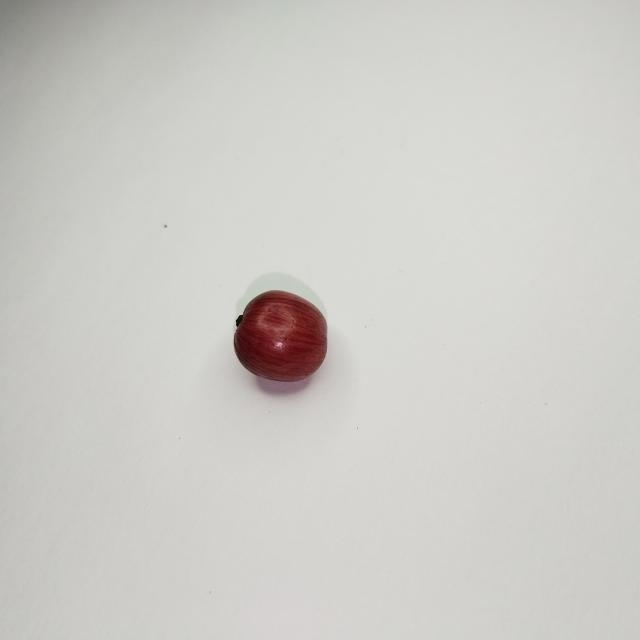Sano: (235, 292, 326, 381)
